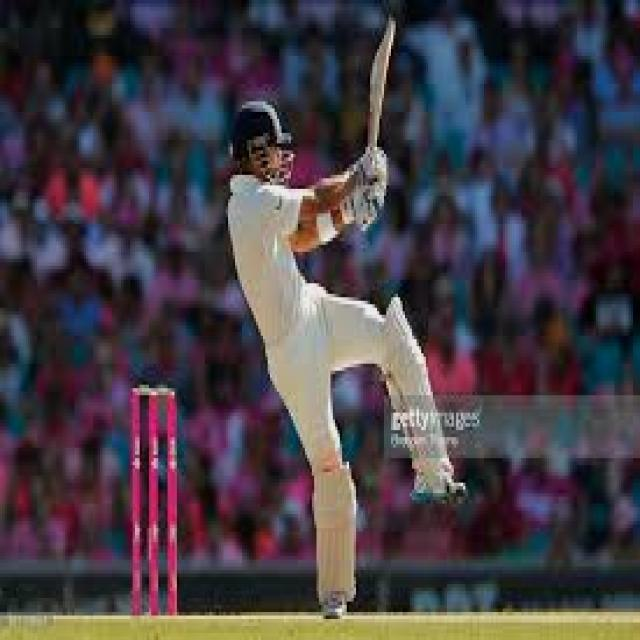toe: (378, 17, 398, 68)
